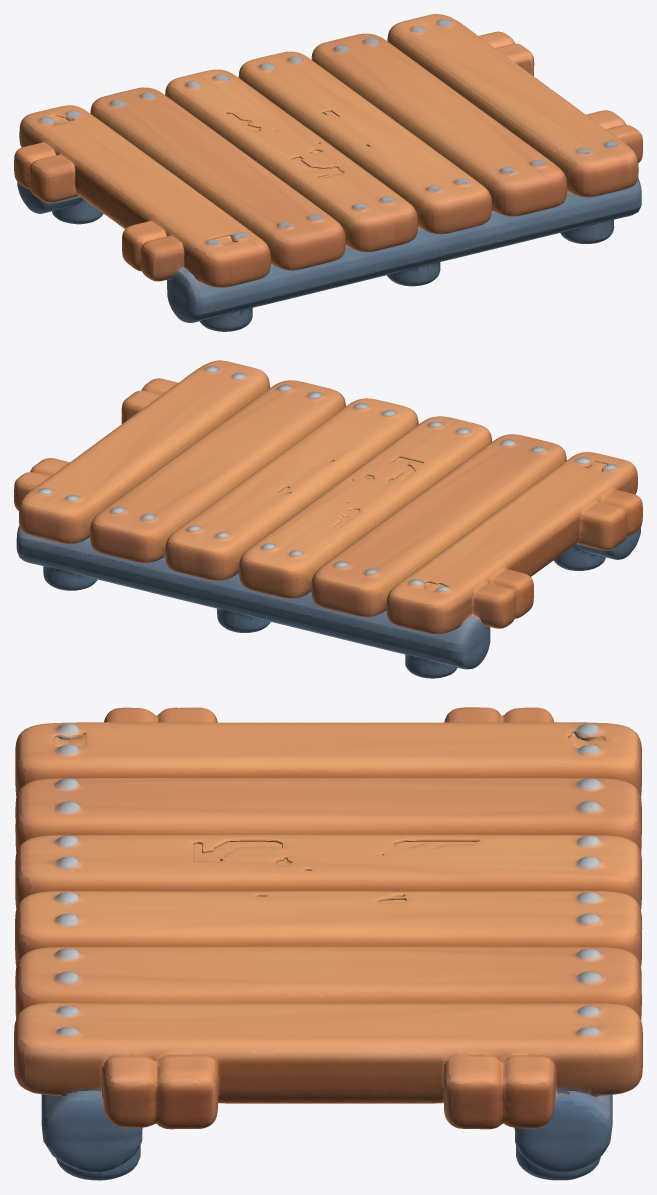
The model's file is ter_boardwalk_01.glb.
The picture shows the model from 3 angles, top to bottom: view 1: azimuth 30°, elevation 25°; view 2: azimuth 150°, elevation 25°; view 3: azimuth 270°, elevation 25°; orthographic projection. The views are drawn at different scales.
Parts seen in each view (by area): view 1: geometry_0; view 2: geometry_0; view 3: geometry_0.
Part boxes in pixels (x1,y1,x2,y2): geometry_0: (14,14,642,331); geometry_0: (14,360,642,678); geometry_0: (14,707,642,1180).
Size of the model in its own units: 0.32 by 0.06 by 0.2257.
1 material, 1 textured.
